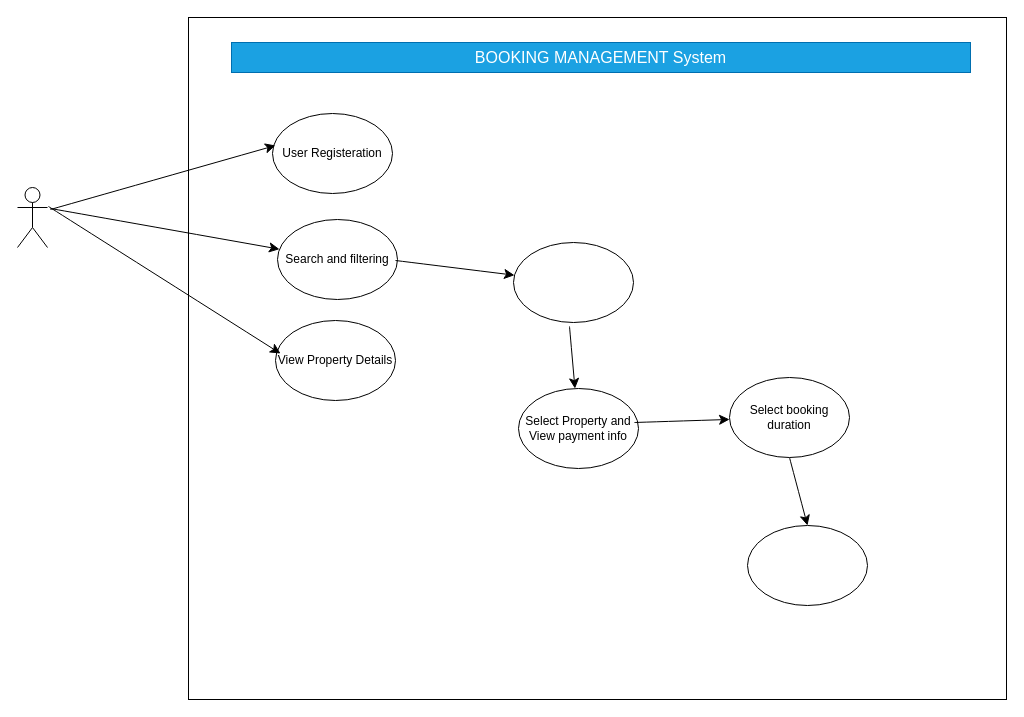
The diagram is 1024 pixels wide and 717 high, and some of its shapes have lost their labels. The centre of each missing label's shape, as x and y in pixels:
"Host" goes at point 32,217.
"Make Paymeent" goes at point 807,565.
"View Properties" goes at point 573,282.
